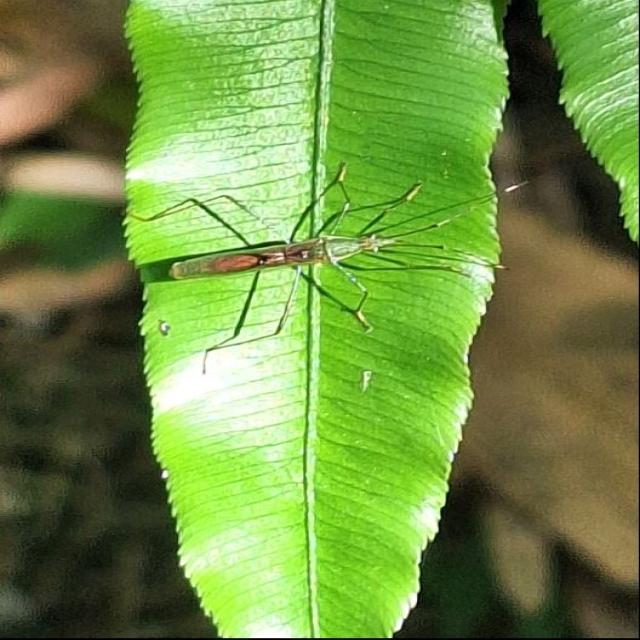walang sangit pada tanaman padi: (132, 160, 506, 374)
